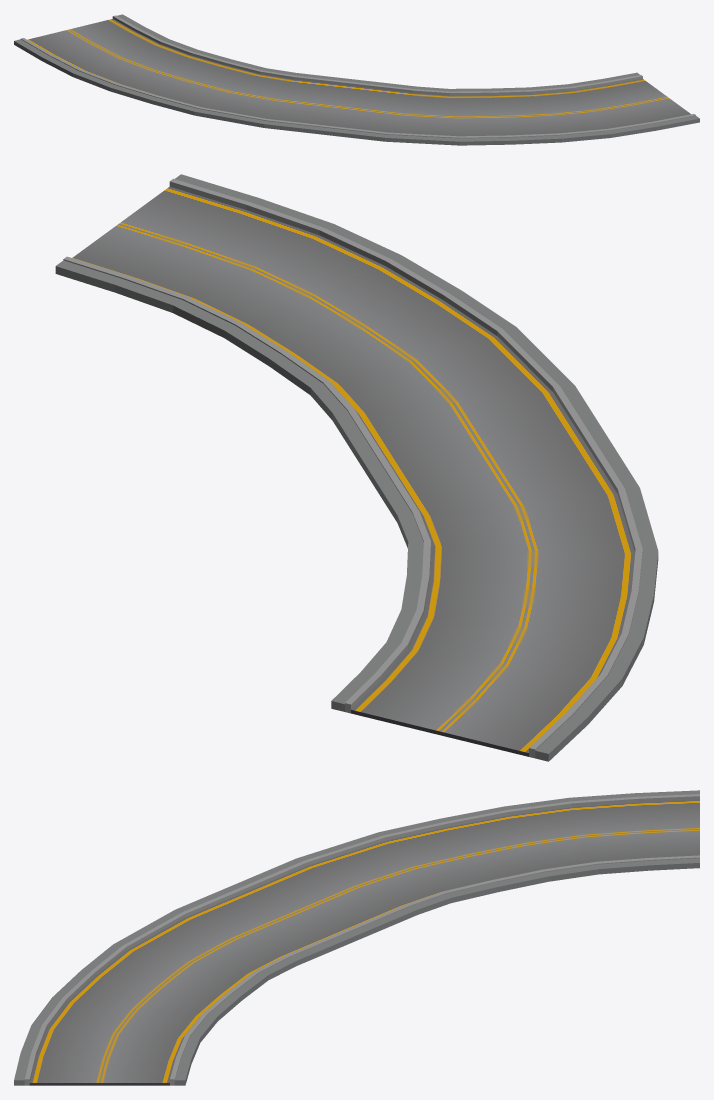
Rendered from Road1_Curve4.glb.
The picture shows the model from 3 angles, top to bottom: view 1: azimuth 30°, elevation 25°; view 2: azimuth 150°, elevation 25°; view 3: azimuth 270°, elevation 25°; orthographic projection. The views are drawn at different scales.
Parts seen in each view (by area): view 1: Road1_Curve4; view 2: Road1_Curve4; view 3: Road1_Curve4.
Boxes of the visible parts, x1,y1,x2,y2 form: Road1_Curve4: (14,14,699,145); Road1_Curve4: (55,174,658,761); Road1_Curve4: (14,790,699,1085).
Size of the model in its own units: 14.63 by 0.1446 by 14.63.
1 material, 1 textured.
